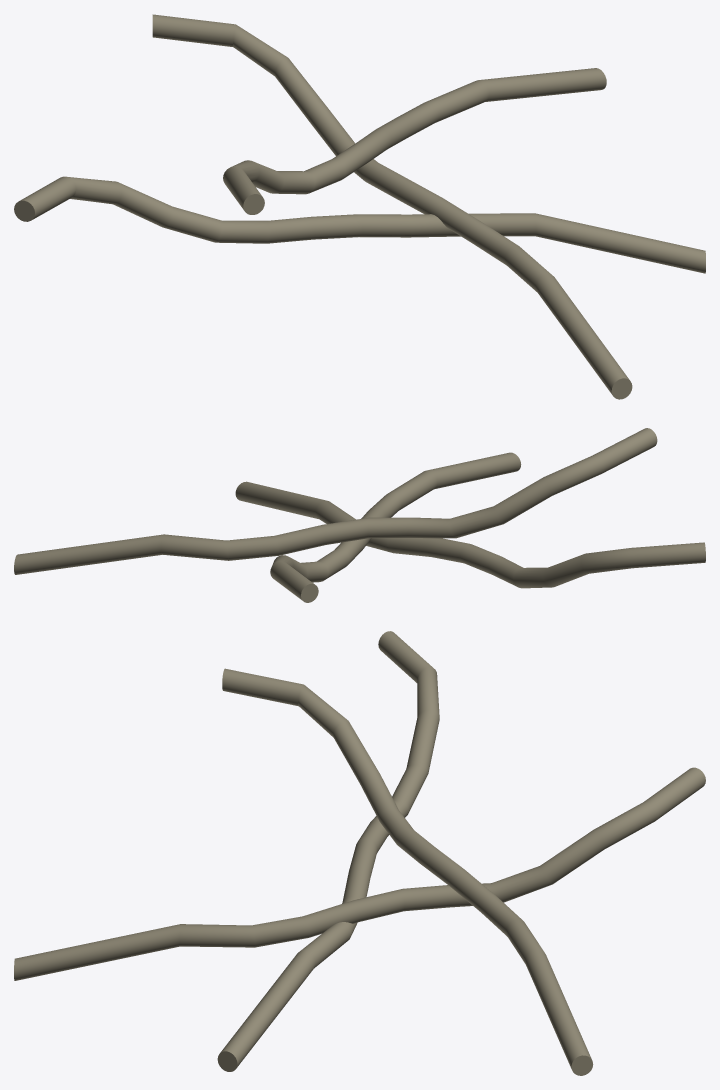
Rendered from Roots.fbx.
3 renders of one model, top to bottom at view 1: azimuth 30°, elevation 25°; view 2: azimuth 150°, elevation 25°; view 3: azimuth 270°, elevation 25°, orthographic. The views are drawn at different scales.
Parts seen in each view (by area): view 1: pasted__polySurface47 (×2), pasted__pasted__polySurface47; view 2: pasted__polySurface47 (×2), pasted__pasted__polySurface47; view 3: pasted__polySurface47 (×2), pasted__pasted__polySurface47.
Boxes of the visible parts, x1,y1,x2,y2 form: pasted__polySurface47 (×2): [14, 14, 705, 399]; pasted__pasted__polySurface47: [223, 68, 606, 214]; pasted__polySurface47 (×2): [235, 452, 705, 602]; pasted__pasted__polySurface47: [14, 428, 657, 574]; pasted__polySurface47 (×2): [14, 631, 705, 1071]; pasted__pasted__polySurface47: [222, 668, 593, 1075].
Size of the model in its own units: 2.4 by 0.6408 by 2.16.
